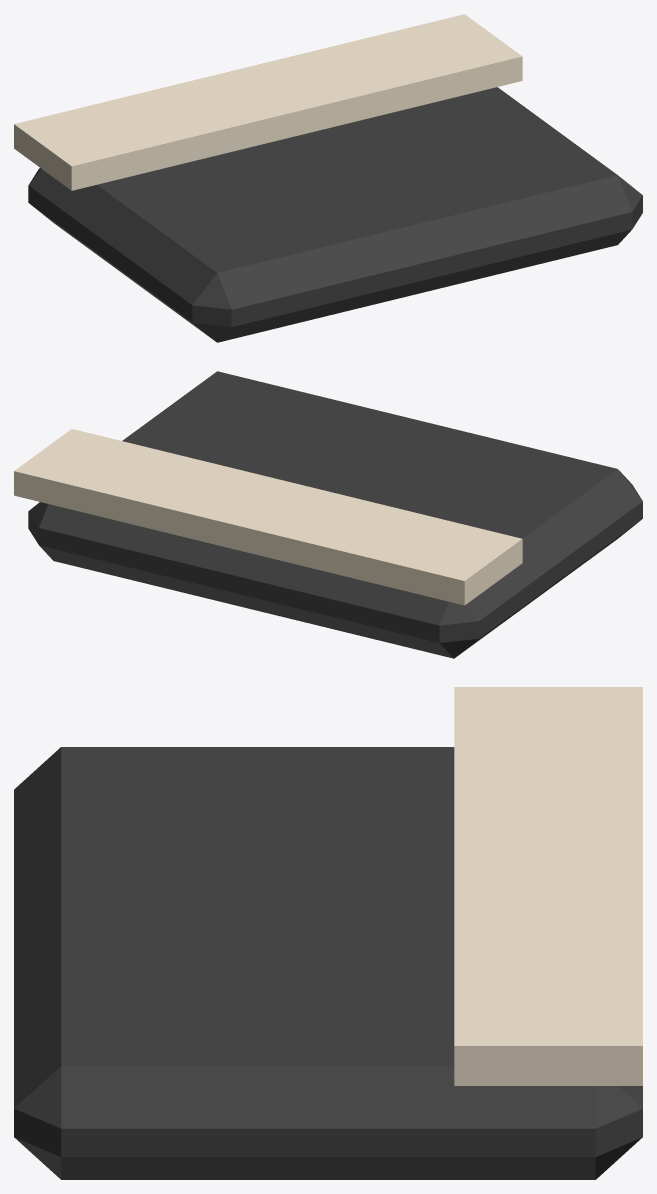
3 views of the same model, one above another, from view 1: azimuth 30°, elevation 25°; view 2: azimuth 150°, elevation 25°; view 3: azimuth 270°, elevation 25° (orthographic). The views are drawn at different scales.
Visible parts, largest first — view 1: Document pouch, Flap; view 2: Document pouch, Flap; view 3: Document pouch, Flap.
Part boxes in pixels (box(x1,y1,x2,y2)): Document pouch: box(28, 87, 642, 342); Flap: box(14, 14, 522, 190); Document pouch: box(28, 371, 642, 658); Flap: box(14, 429, 522, 605); Document pouch: box(14, 747, 642, 1179); Flap: box(454, 687, 642, 1085).
Size of the model in its own units: 27 by 5.4 by 20.
